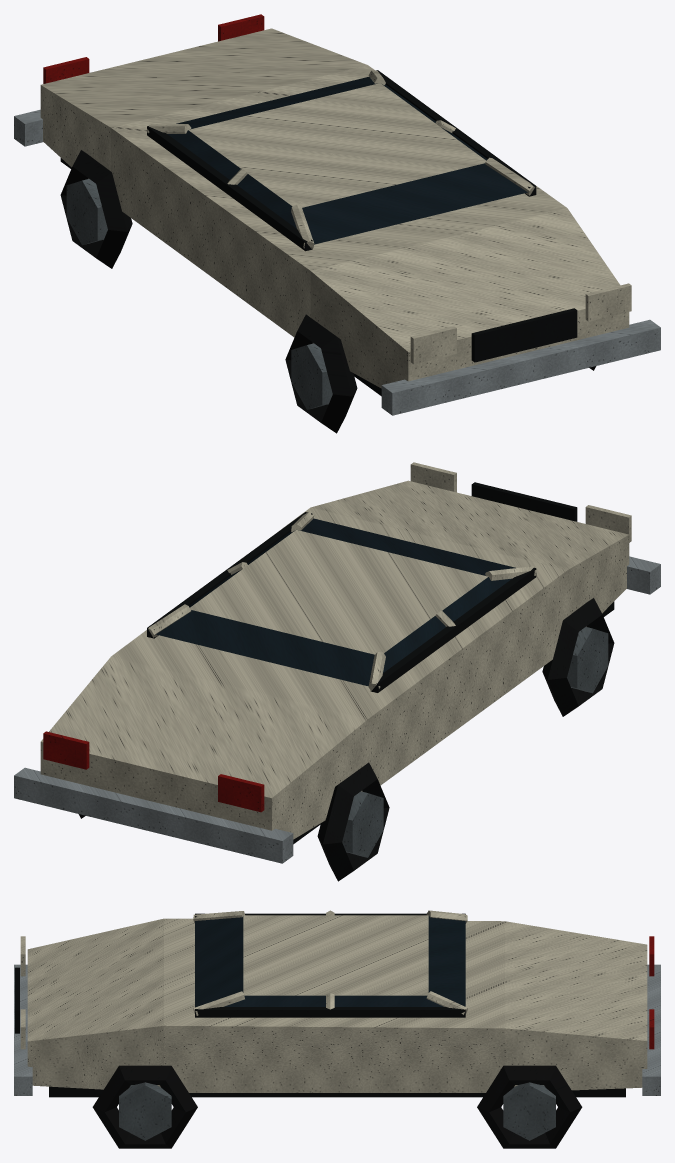
Rendered from PROP-04660392D4EA_lod2.glb.
3 views of the same model, one above another, from view 1: azimuth 30°, elevation 25°; view 2: azimuth 150°, elevation 25°; view 3: azimuth 270°, elevation 25° (orthographic). The views are drawn at different scales.
Parts seen in each view (by area): view 1: shaped_body_panels.015, roof_panel.013, sloped_cabin_glazing.015, bumper.015, tire.015, rim.015, window_belt.015, radiator_grille.015, lamp_lenses.030, window_pillars.015, lamp_lenses.031; view 2: shaped_body_panels.015, roof_panel.013, sloped_cabin_glazing.015, bumper.015, tire.015, rim.015, window_belt.015, lamp_lenses.031, lamp_lenses.030, window_pillars.015, radiator_grille.015; view 3: shaped_body_panels.015, roof_panel.013, sloped_cabin_glazing.015, tire.015, rim.015, window_belt.015, bumper.015, chassis.015, window_pillars.015, lamp_lenses.030, lamp_lenses.031.
Boxes of the visible parts, bbox=[...] form: shaped_body_panels.015: bbox=[40, 28, 629, 388]; roof_panel.013: bbox=[188, 83, 485, 207]; sloped_cabin_glazing.015: bbox=[167, 77, 527, 244]; bumper.015: bbox=[14, 109, 660, 415]; tire.015: bbox=[60, 150, 596, 433]; rim.015: bbox=[66, 179, 332, 409]; window_belt.015: bbox=[147, 70, 536, 251]; radiator_grille.015: bbox=[471, 308, 577, 362]; lamp_lenses.030: bbox=[410, 283, 631, 364]; window_pillars.015: bbox=[147, 70, 534, 248]; lamp_lenses.031: bbox=[43, 14, 264, 83]; shaped_body_panels.015: bbox=[40, 480, 629, 839]; roof_panel.013: bbox=[190, 530, 488, 654]; sloped_cabin_glazing.015: bbox=[156, 518, 515, 686]; bumper.015: bbox=[14, 556, 660, 863]; tire.015: bbox=[78, 598, 614, 881]; rim.015: bbox=[342, 627, 608, 857]; window_belt.015: bbox=[147, 512, 536, 692]; lamp_lenses.031: bbox=[43, 731, 264, 812]; lamp_lenses.030: bbox=[410, 462, 631, 542]; window_pillars.015: bbox=[148, 511, 536, 690]; radiator_grille.015: bbox=[471, 482, 577, 521]; shaped_body_panels.015: bbox=[27, 918, 647, 1092]; roof_panel.013: bbox=[243, 915, 428, 995]; sloped_cabin_glazing.015: bbox=[195, 915, 465, 1006]; tire.015: bbox=[92, 1065, 582, 1148]; rim.015: bbox=[119, 1082, 555, 1140]; window_belt.015: bbox=[195, 913, 465, 1017]; bumper.015: bbox=[14, 964, 660, 1095]; chassis.015: bbox=[49, 1086, 625, 1097]; window_pillars.015: bbox=[193, 910, 467, 1015]; lamp_lenses.030: bbox=[20, 936, 25, 1049]; lamp_lenses.031: bbox=[649, 936, 654, 1049].
Bounding box in the file's own units: 1.98 × 1.11 × 4.54.
7 materials, 7 textured.
